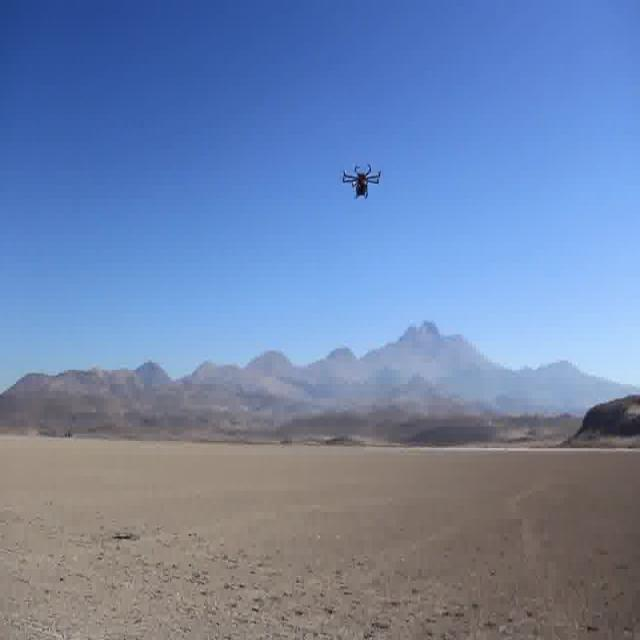drone: (335, 142, 389, 212)
